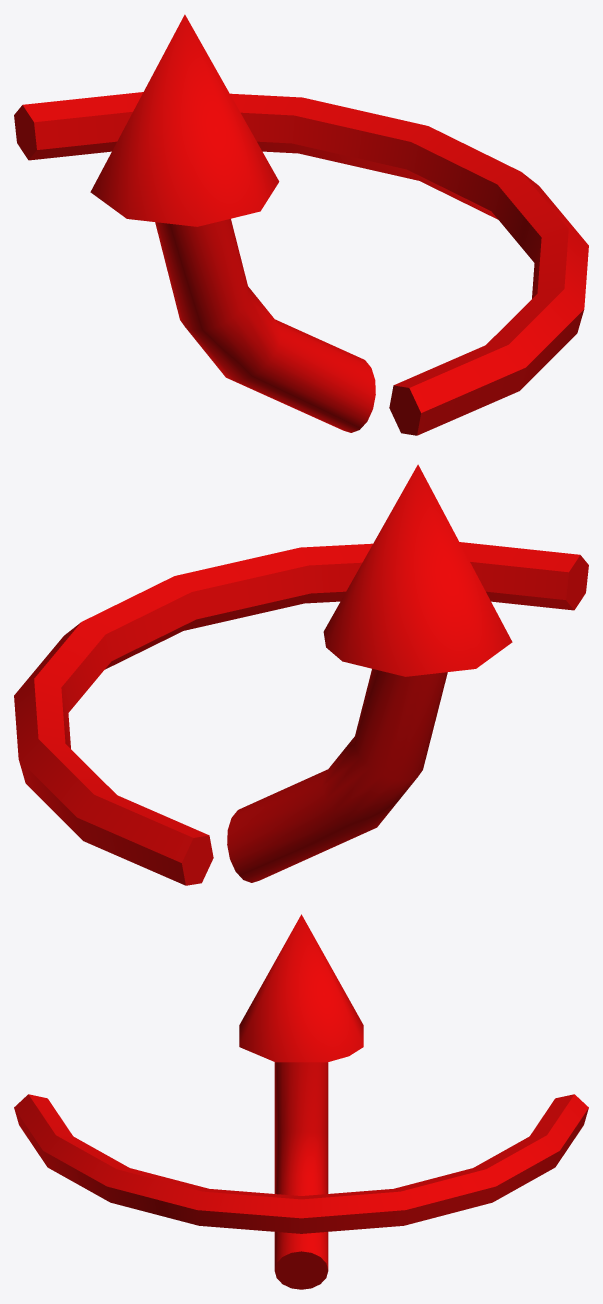
File: FeedbackPointer.fbx
3 views of the same model, one above another, from view 1: azimuth 30°, elevation 25°; view 2: azimuth 150°, elevation 25°; view 3: azimuth 270°, elevation 25° (orthographic). The views are drawn at different scales.
Visible parts, largest first — view 1: Circle, Cap, Line; view 2: Circle, Cap, Line; view 3: Circle, Cap, Line.
Boxes of the visible parts, box(x1,y1,x2,y2) form: Circle: box(14, 92, 588, 435); Cap: box(90, 14, 279, 226); Line: box(155, 219, 375, 432); Circle: box(14, 542, 588, 885); Cap: box(323, 464, 512, 676); Line: box(227, 669, 447, 882); Circle: box(14, 1094, 588, 1233); Cap: box(239, 914, 363, 1062); Line: box(274, 1062, 328, 1289).
Bounding box in the file's own units: 0.0521 × 0.0526 × 0.0854.
